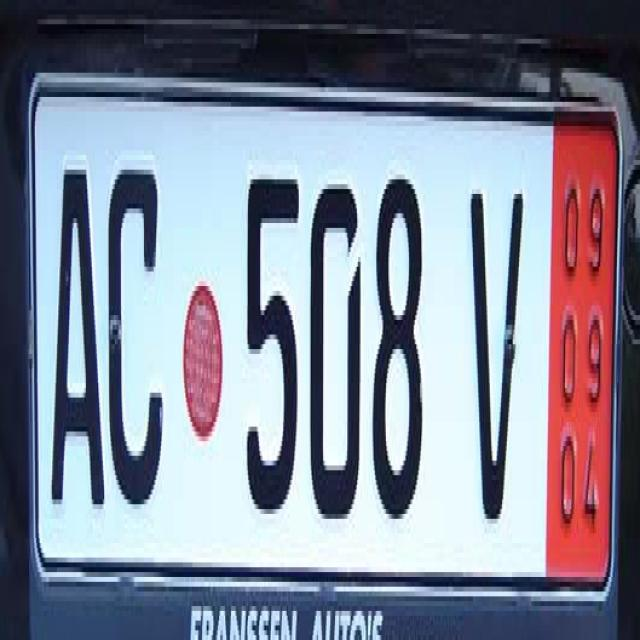Autre: (32, 91, 618, 573)
